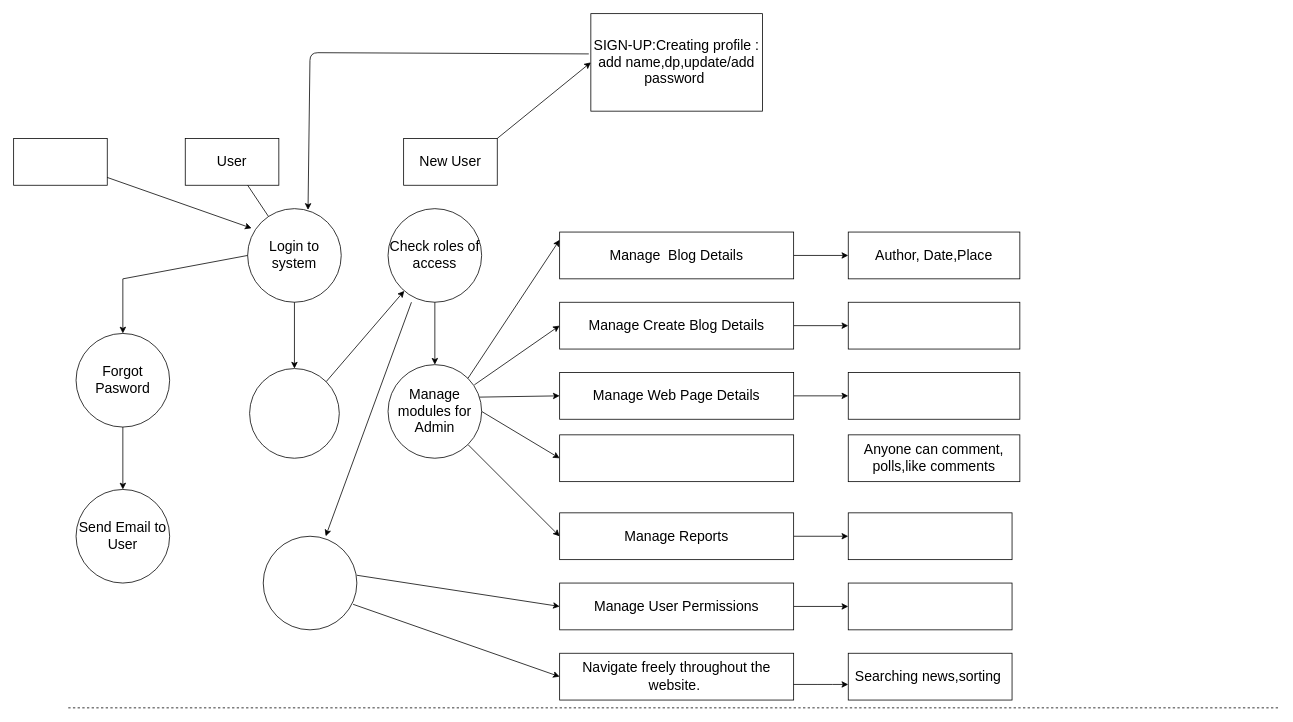
Some shapes in this 1293 by 722 pixel diagram are drawn without their labels. Here are the shapes that lost their labels. From the top down, the box of each, then its label:
(13, 138, 107, 185): Admin
(847, 301, 1020, 349): Category, Title, Body,Images
(249, 368, 339, 458): Check credentials
(847, 372, 1020, 419): Appearance, Hyperlinks
(559, 434, 794, 482): Manage Comment Details
(847, 512, 1012, 560): No of likes, reads, comments
(262, 535, 357, 630): User access
(847, 582, 1012, 630): View ,like and comment
